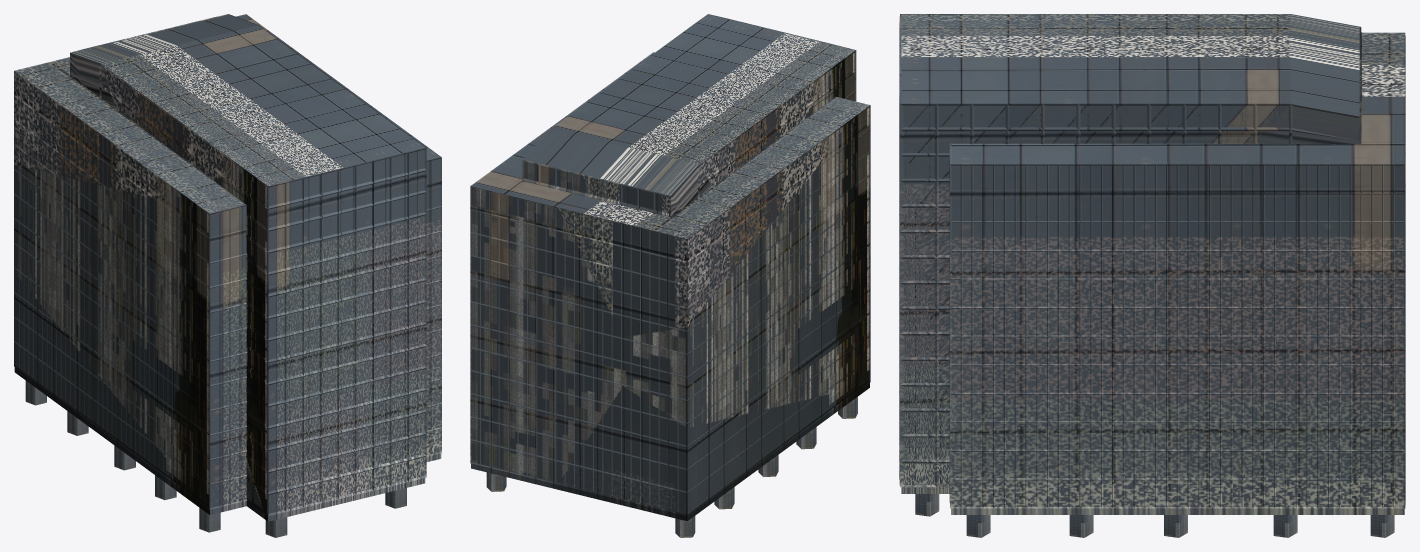
Rendered from OfficeBuilding.fbx.
3 views of the same model, side by side, from view 1: azimuth 30°, elevation 25°; view 2: azimuth 150°, elevation 25°; view 3: azimuth 270°, elevation 25° (orthographic). The views are drawn at different scales.
Parts seen in each view (by area): view 1: Cube.019; view 2: Cube.019; view 3: Cube.019.
Part boxes in pixels (x1=…): Cube.019: x1=14, y1=14, x2=441, y2=537; Cube.019: x1=470, y1=14, x2=870, y2=537; Cube.019: x1=899, y1=14, x2=1405, y2=537.
Bounding box in the file's own units: 169 × 250 × 274.
1 material, 1 textured.
